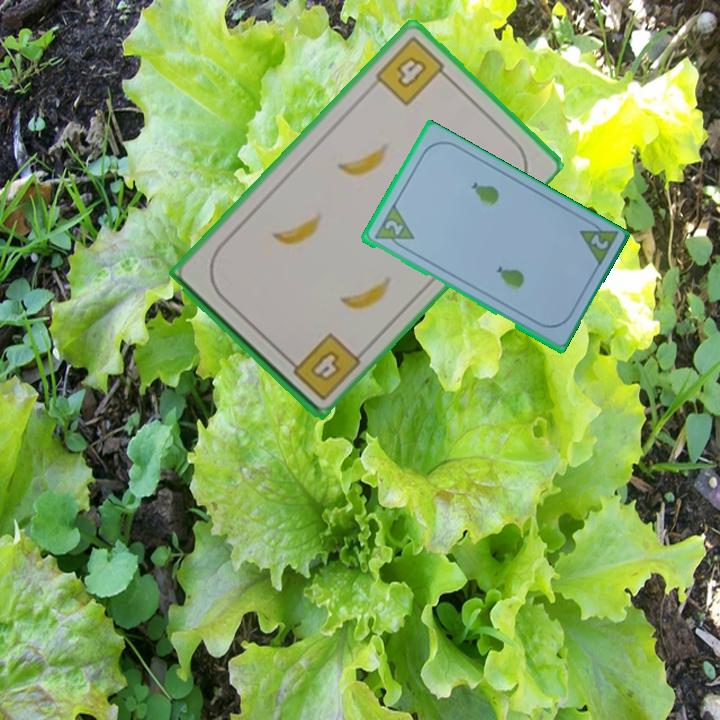2p: (381, 216, 406, 238), (586, 231, 611, 253)
4b: (371, 32, 454, 108), (281, 329, 364, 403)
